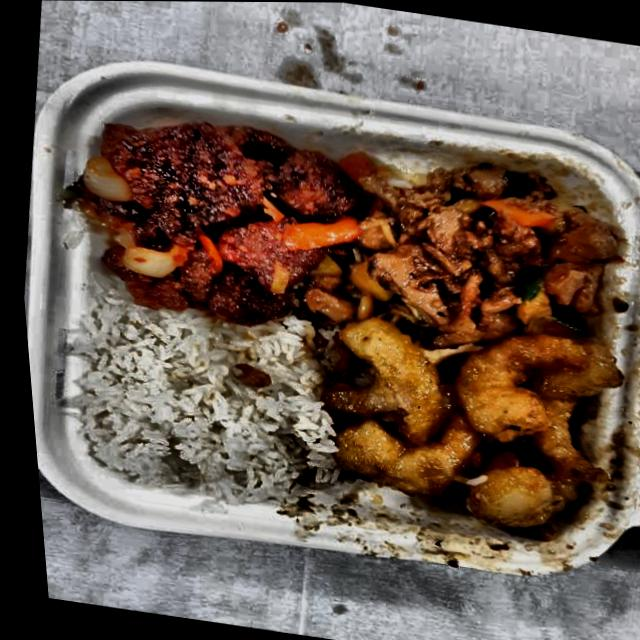Food: (292, 303, 639, 552), (311, 129, 640, 381), (49, 90, 373, 334), (50, 300, 329, 511)
